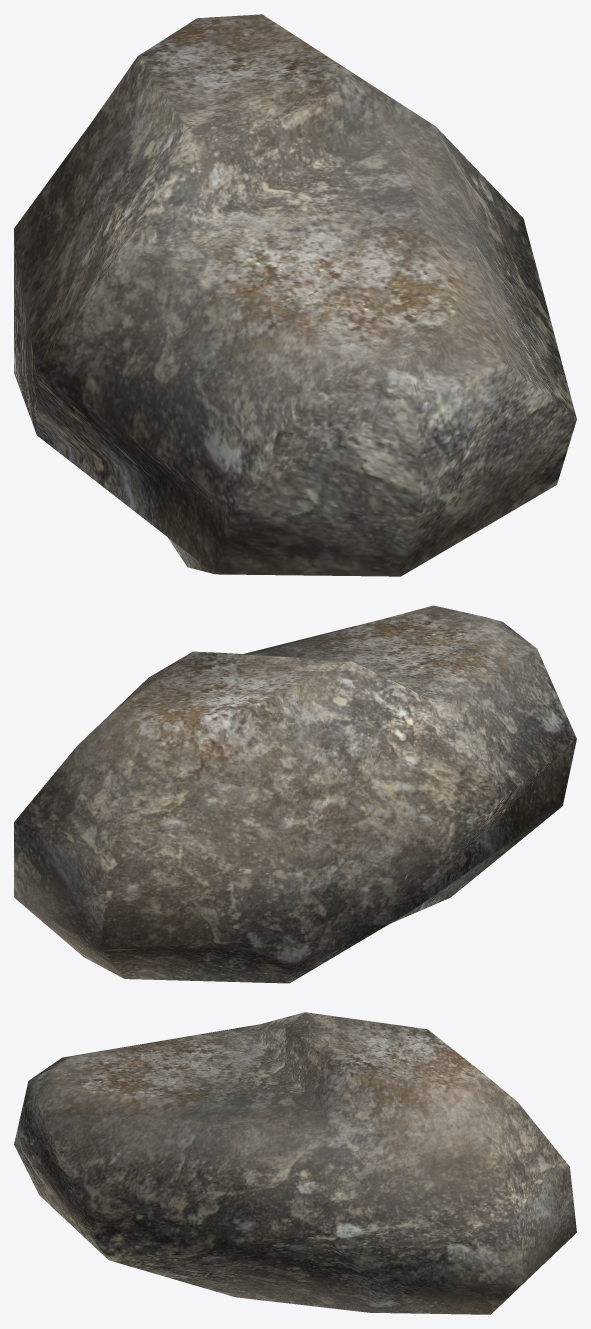
Rendered from Small Rock 1.FBX.
The picture shows the model from 3 angles, top to bottom: view 1: azimuth 30°, elevation 25°; view 2: azimuth 150°, elevation 25°; view 3: azimuth 270°, elevation 25°; orthographic projection. The views are drawn at different scales.
Visible parts, largest first — view 1: Small Rock 1; view 2: Small Rock 1; view 3: Small Rock 1.
Part boxes in pixels (left/top/right/bottom): Small Rock 1: left=14, top=14, right=576, bottom=576; Small Rock 1: left=14, top=605, right=576, bottom=983; Small Rock 1: left=14, top=1012, right=576, bottom=1314.
Bounding box in the file's own units: 7.66 × 11.19 × 5.08.
